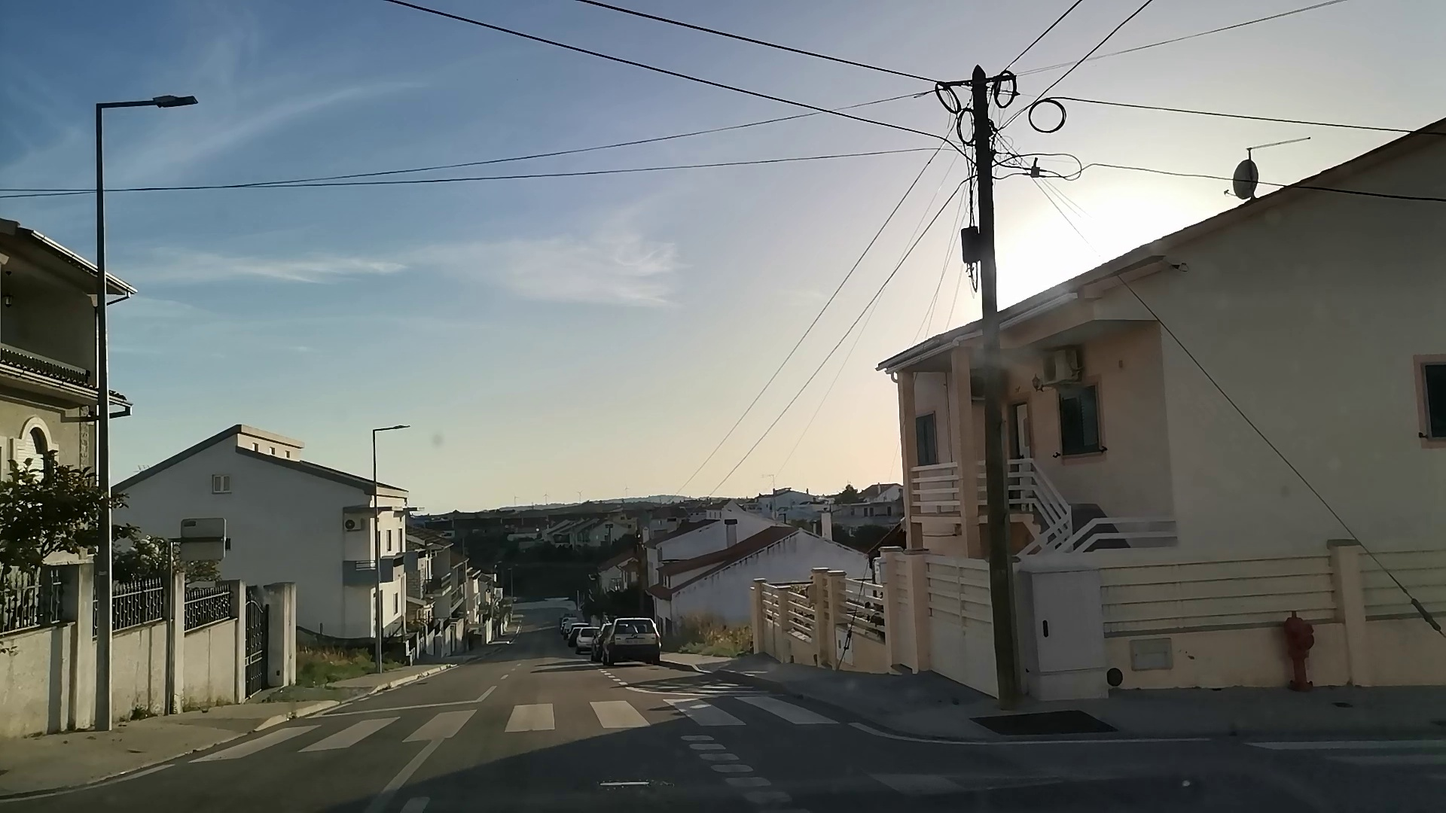Stairs: (222, 690, 848, 752)
